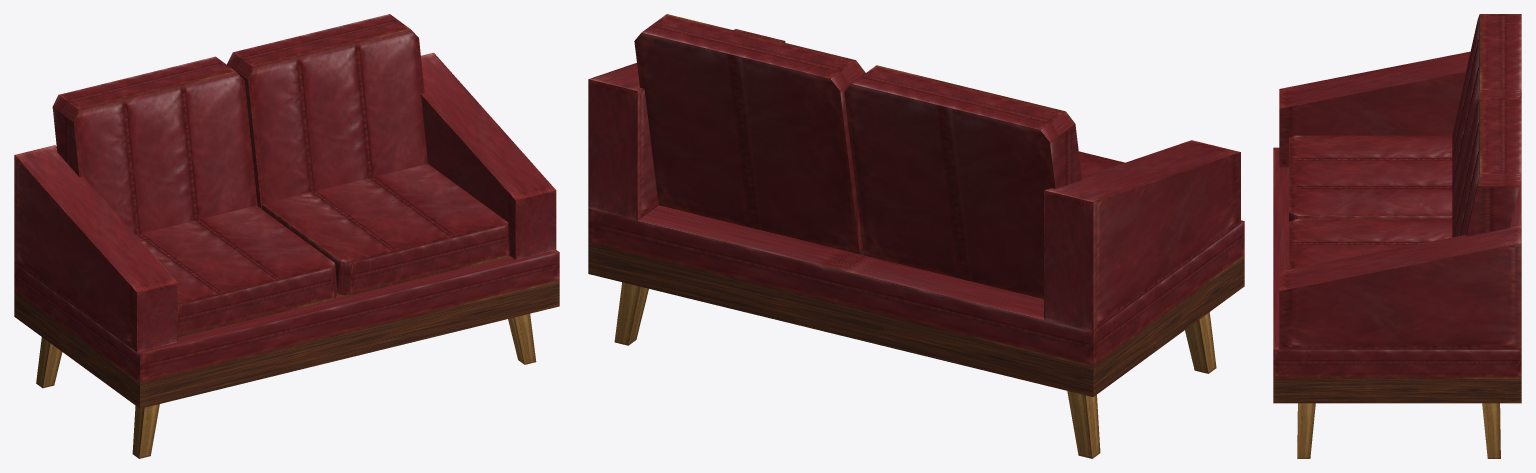
Rendered from casino-two-seat-couch.obj.
The picture shows the model from 3 angles, left to right: view 1: azimuth 30°, elevation 25°; view 2: azimuth 150°, elevation 25°; view 3: azimuth 270°, elevation 25°; orthographic projection. The views are drawn at different scales.
Parts seen in each view (by area): view 1: casino-two-seat-couch; view 2: casino-two-seat-couch; view 3: casino-two-seat-couch.
Boxes of the visible parts, x1,y1,x2,y2 form: casino-two-seat-couch: (14, 14, 559, 458); casino-two-seat-couch: (588, 14, 1244, 458); casino-two-seat-couch: (1273, 14, 1521, 458).
Bounding box in the file's own units: 1.6 × 0.995 × 0.83.
1 material, 1 textured.
